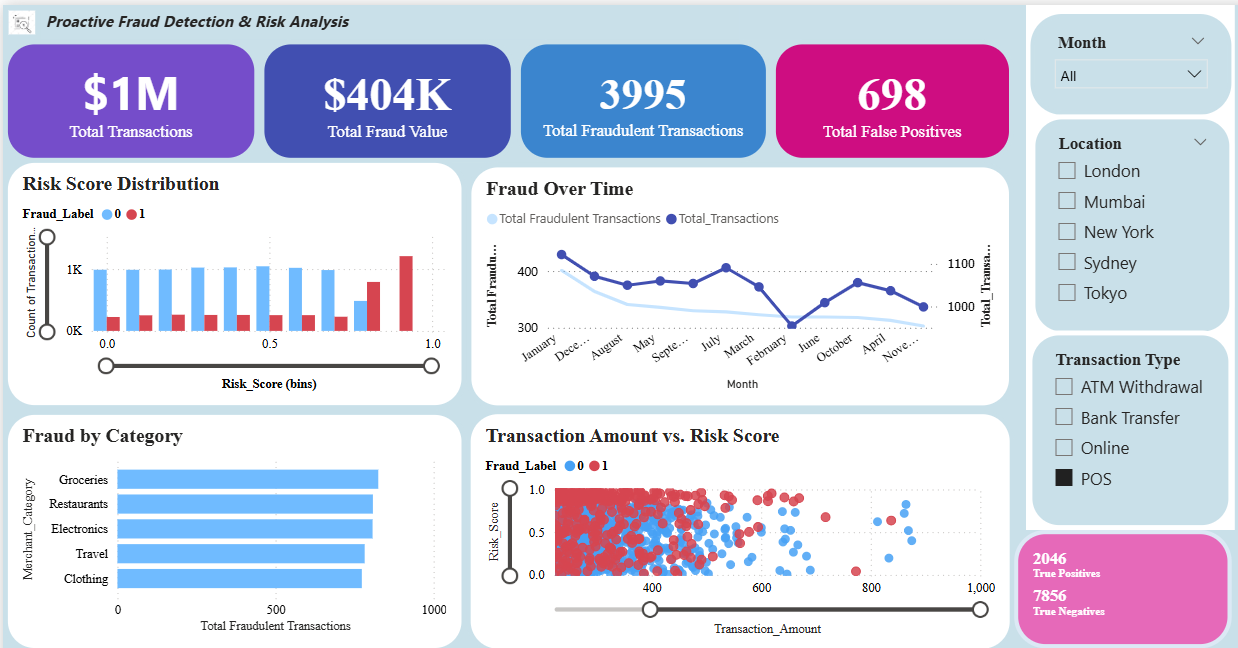

The page's visual inventory and layout, read from the dashboard file:
{"tool":"powerbi","page":{"name":"Page 1","canvas":[1280,720],"ordinal":0},"visuals":[{"type":"image","box":[0,0,35.7,32.9],"z":1},{"type":"textbox","box":[35.7,0,665.7,32.9],"z":2},{"type":"card","fields":{"Values":["Measures (2).Toatl Transactions"]},"box":[0,32.9,244.3,117.1],"z":3},{"type":"card","fields":{"Values":["Measures (2).Total Fraud Value"]},"box":[244.3,32.9,244.3,117.1],"z":4},{"type":"card","fields":{"Values":["Measures (2).Total Fraudulent Transactions"]},"box":[488.6,32.9,242.9,117.1],"z":5},{"type":"card","fields":{"Values":["Measures (2).Total False Positives"]},"box":[731.4,32.9,231.4,117.1],"z":6},{"type":"shape","box":[974.3,0,198.6,500],"z":7},{"type":"slicer","fields":{"Values":["predictions_with_model_output.Month"]},"box":[978.6,8.6,191.4,95.7],"z":8},{"type":"slicer","fields":{"Values":["predictions_with_model_output.Location"]},"box":[978.6,104.3,194.3,211.4],"z":9},{"type":"slicer","fields":{"Values":["predictions_with_model_output.Transaction_Type"]},"box":[975.7,310,195.7,190],"z":10},{"type":"lineChart","title":"Fraud Over Time","fields":{"Y":["Measures (2).Total Fraudulent Transactions"],"Y2":["Measures (2).Total_Transactions"],"Category":["predictions_with_model_output.Month"]},"box":[441.4,150,521.4,235.7],"z":11},{"type":"clusteredColumnChart","title":"Risk Score Distribution","fields":{"Category":["predictions_with_model_output.Risk_Score (bins)"],"Y":["CountNonNull(predictions_with_model_output.Transaction_ID)"],"Series":["predictions_with_model_output.Fraud_Label"]},"box":[0,145.7,441.4,240],"z":12},{"type":"barChart","title":"Fraud by Category","fields":{"Category":["predictions_with_model_output.Merchant_Category"],"Y":["Measures (2).Total Fraudulent Transactions"]},"box":[0,385.7,441.4,231.4],"z":13},{"type":"scatterChart","title":"Transaction Amount vs. Risk Score","fields":{"X":["predictions_with_model_output.Transaction_Amount"],"Y":["predictions_with_model_output.Risk_Score"],"Series":["predictions_with_model_output.Fraud_Label"]},"box":[441,386,521,231],"z":14},{"type":"multiRowCard","fields":{"Values":["Measures (2).True Positives","Measures (2).True Negatives"]},"box":[962.9,500,207.1,112.9],"z":15}]}

Visuals, with their boxes on the page's 1280x720 design canvas (x1, y1, x2, y2). These are canvas units, not pixel positions in the 1238x648 screenshot, which may show the page scaled, cropped or inside an application window:
image: select_region(0, 0, 36, 33)
textbox: select_region(36, 0, 701, 33)
card - Measures (2).Toatl Transactions: select_region(0, 33, 244, 150)
card - Measures (2).Total Fraud Value: select_region(244, 33, 489, 150)
card - Measures (2).Total Fraudulent Transactions: select_region(489, 33, 732, 150)
card - Measures (2).Total False Positives: select_region(731, 33, 963, 150)
shape: select_region(974, 0, 1173, 500)
slicer - predictions_with_model_output.Month: select_region(979, 9, 1170, 104)
slicer - predictions_with_model_output.Location: select_region(979, 104, 1173, 316)
slicer - predictions_with_model_output.Transaction_Type: select_region(976, 310, 1171, 500)
"Fraud Over Time" lineChart: select_region(441, 150, 963, 386)
"Risk Score Distribution" clusteredColumnChart: select_region(0, 146, 441, 386)
"Fraud by Category" barChart: select_region(0, 386, 441, 617)
"Transaction Amount vs. Risk Score" scatterChart: select_region(441, 386, 962, 617)
multiRowCard - Measures (2).True Positives x Measures (2).True Negatives: select_region(963, 500, 1170, 613)
